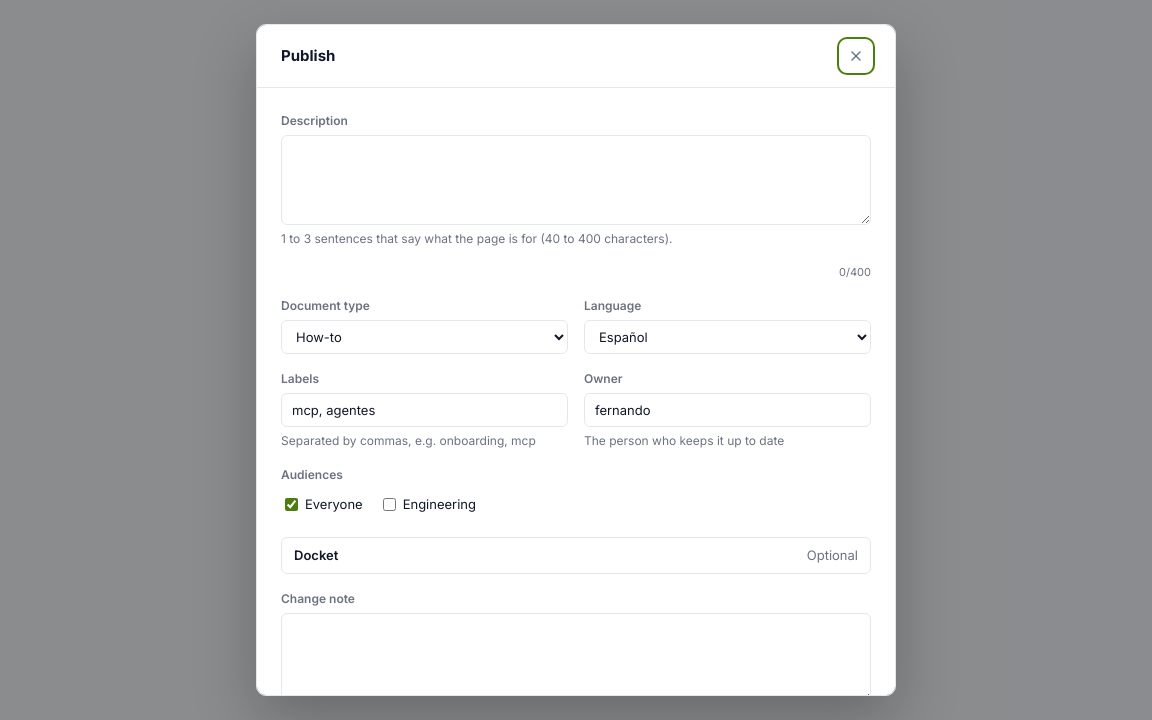
Test: PublishDialog › checks the fields as you go and shows the server errors on them
This screenshot has width=1152, height=720.
Type "Muy corta." into the text box labelled "Description" at (576, 180), box [281,135,871,225]
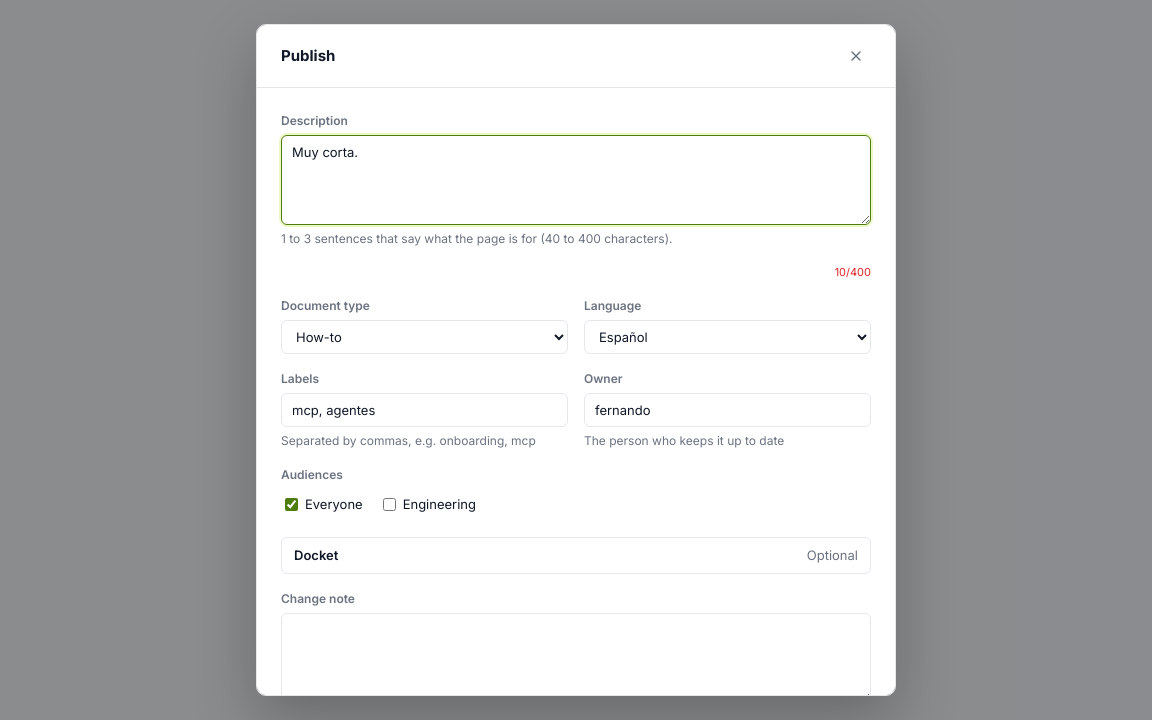
Press Tab
(page scrolled)
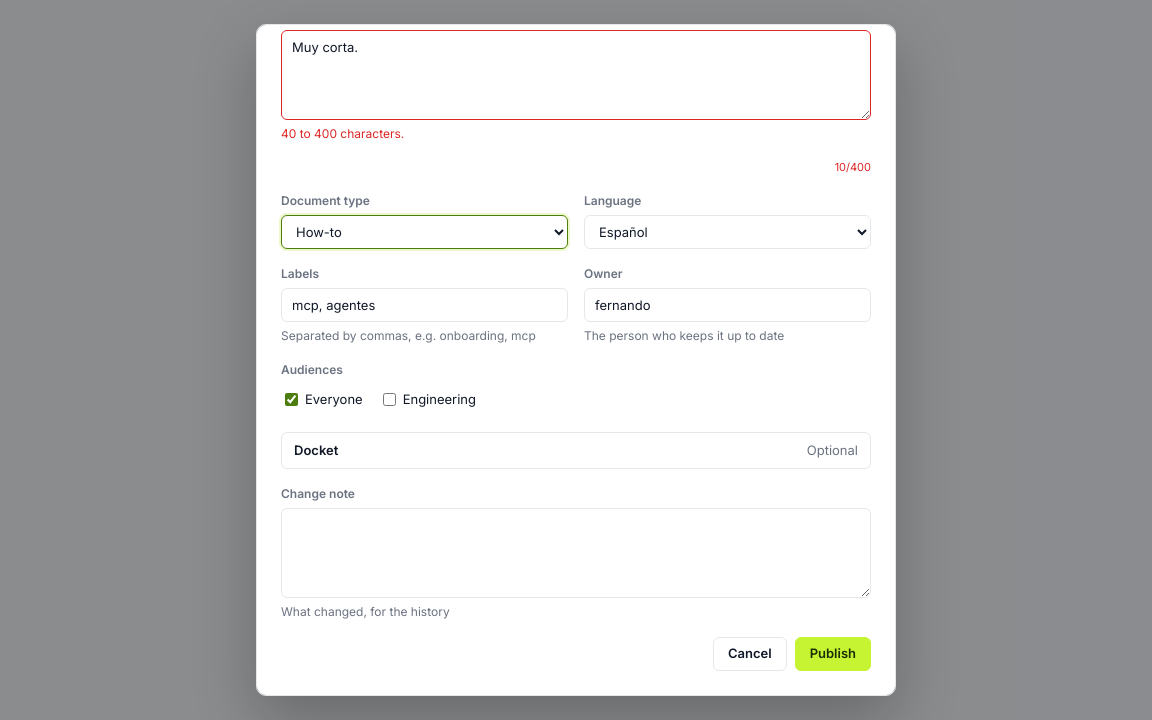
expect the text "40 to 400 characters." is shown: met, box [281,126,404,141]
Click the button "Publish" at (833, 654), box [795,637,871,671]
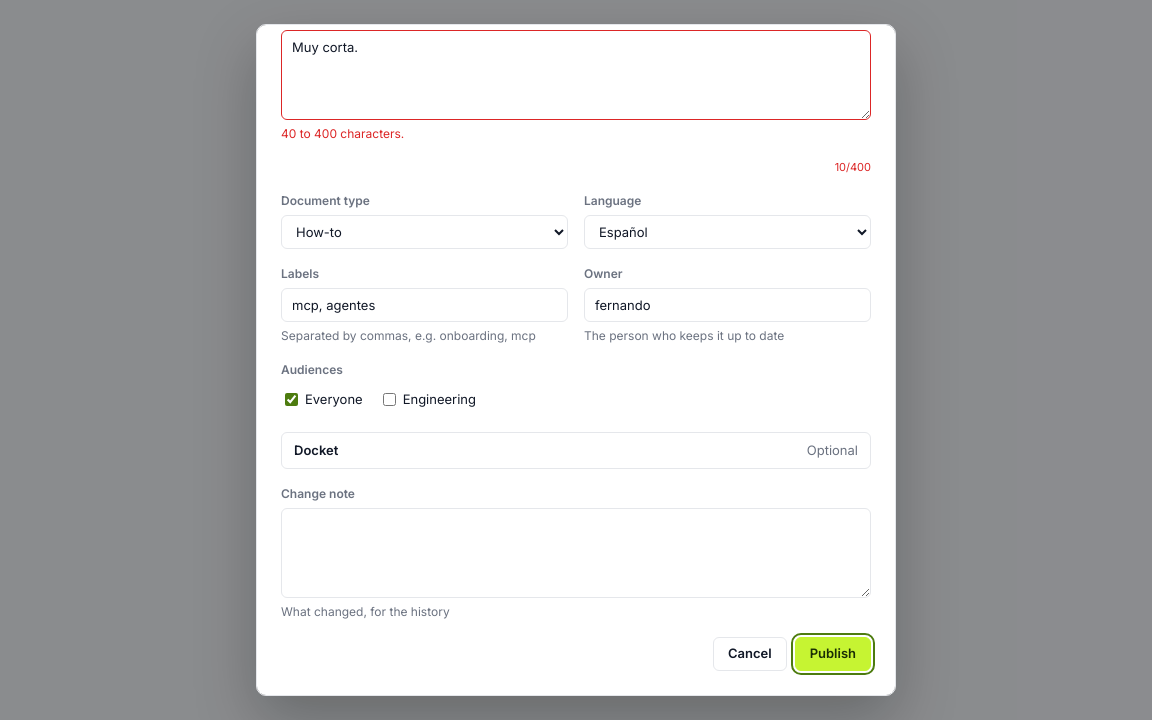
Replace the text in the text box labelled "Description" with "Cómo conectar un agente a Radicle por MCP, paso a paso y con el token." at (576, 75), box [281,30,871,120]
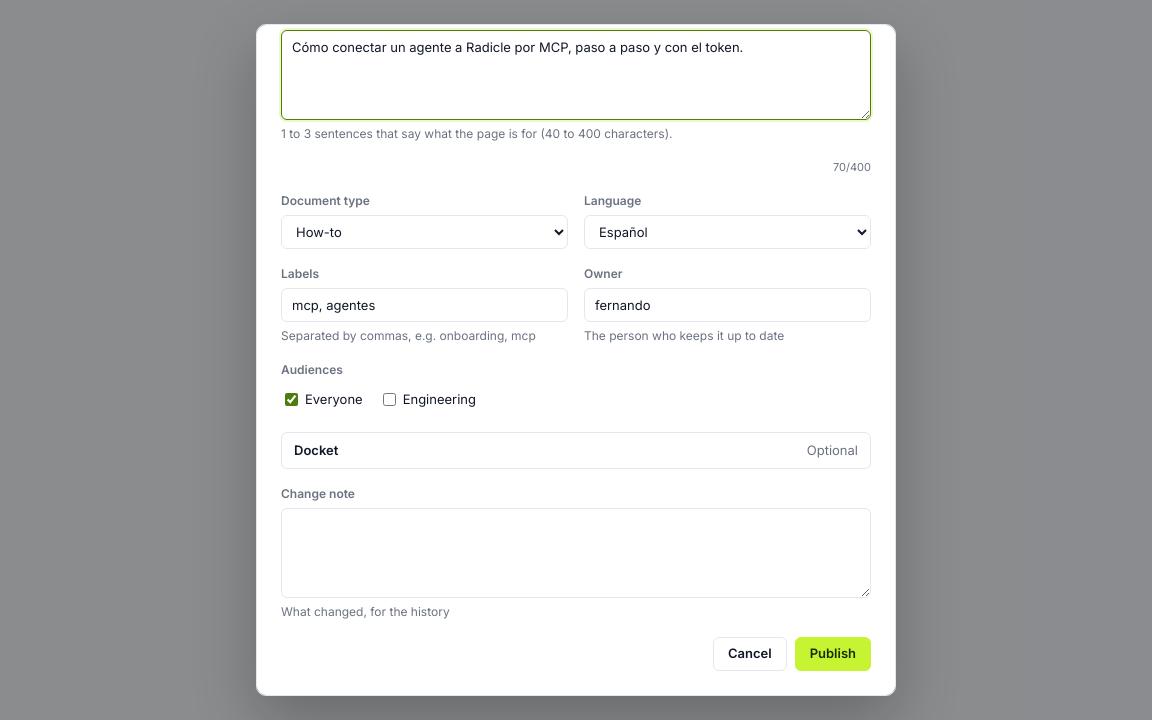
Click the button "Publish" at (833, 654), box [795,637,871,671]
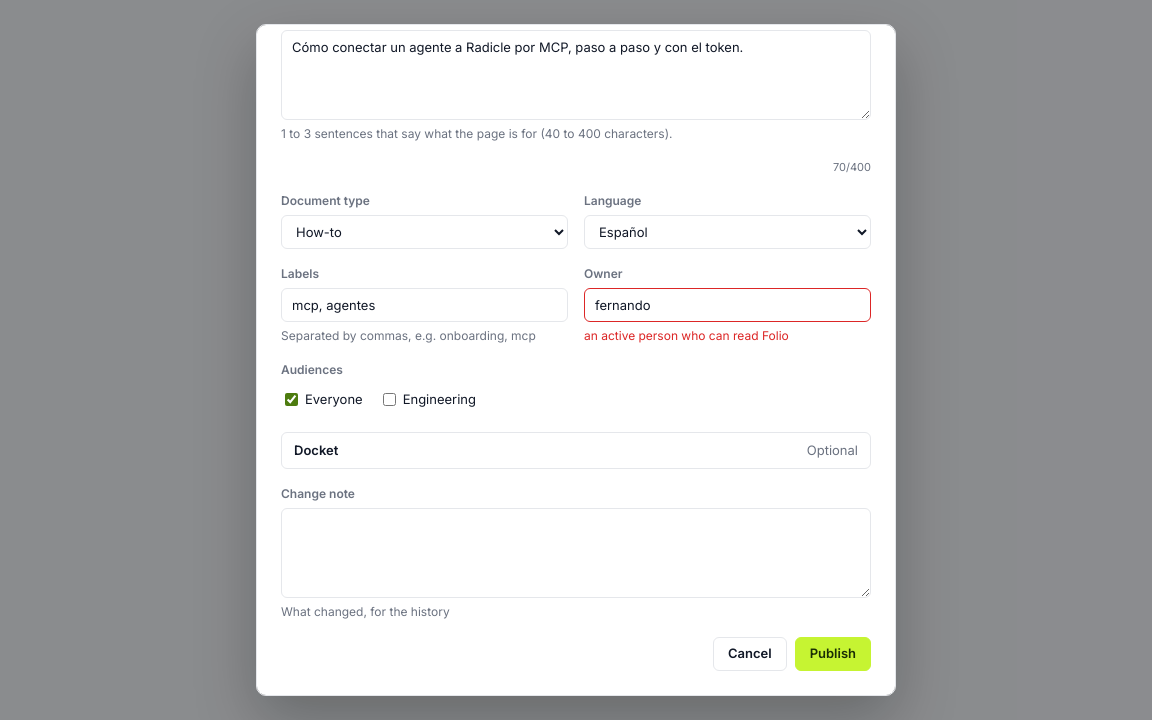
expect the text "an active person who can read Folio" is shown: met, box [584,328,789,342]
